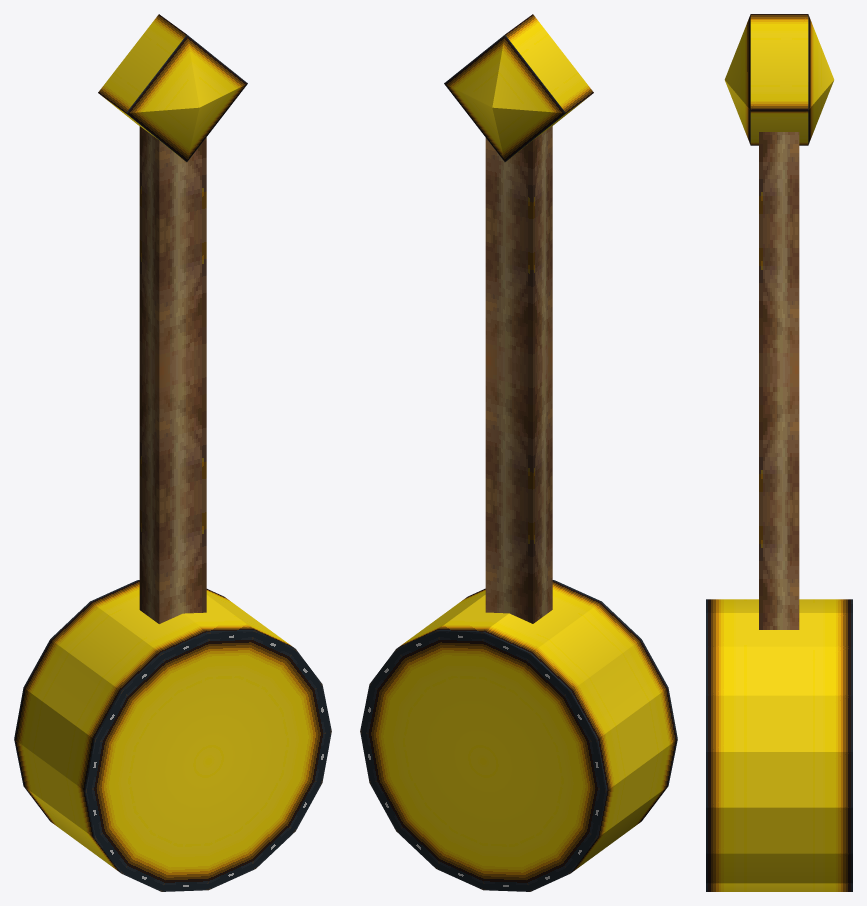
File: clock_course-pendulum.glb
The picture shows the model from 3 angles, left to right: view 1: azimuth 30°, elevation 25°; view 2: azimuth 150°, elevation 25°; view 3: azimuth 270°, elevation 25°; orthographic projection. The views are drawn at different scales.
Visible parts, largest first — view 1: pendulum; view 2: pendulum; view 3: pendulum.
Part boxes in pixels (x1=…): pendulum: x1=14, y1=14, x2=331, y2=891; pendulum: x1=360, y1=14, x2=677, y2=891; pendulum: x1=706, y1=14, x2=852, y2=891.
Size of the model in its own units: 12.45 by 40.56 by 6.25.
1 material, 1 textured.
